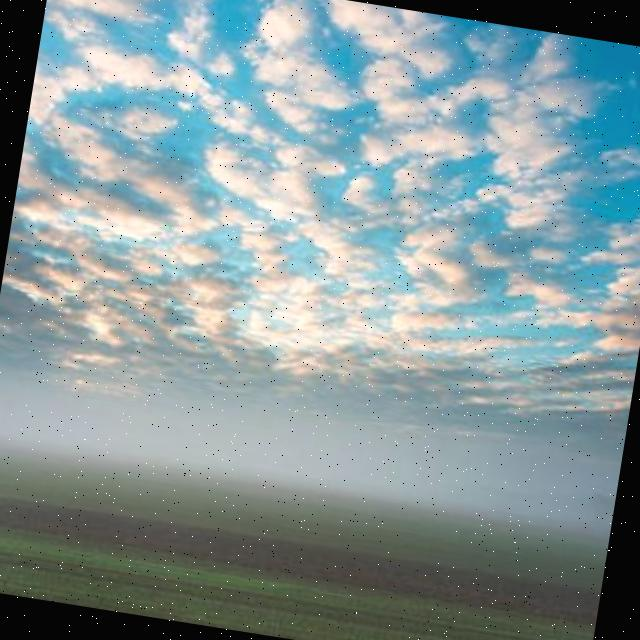Ac: (1, 1, 640, 460)
